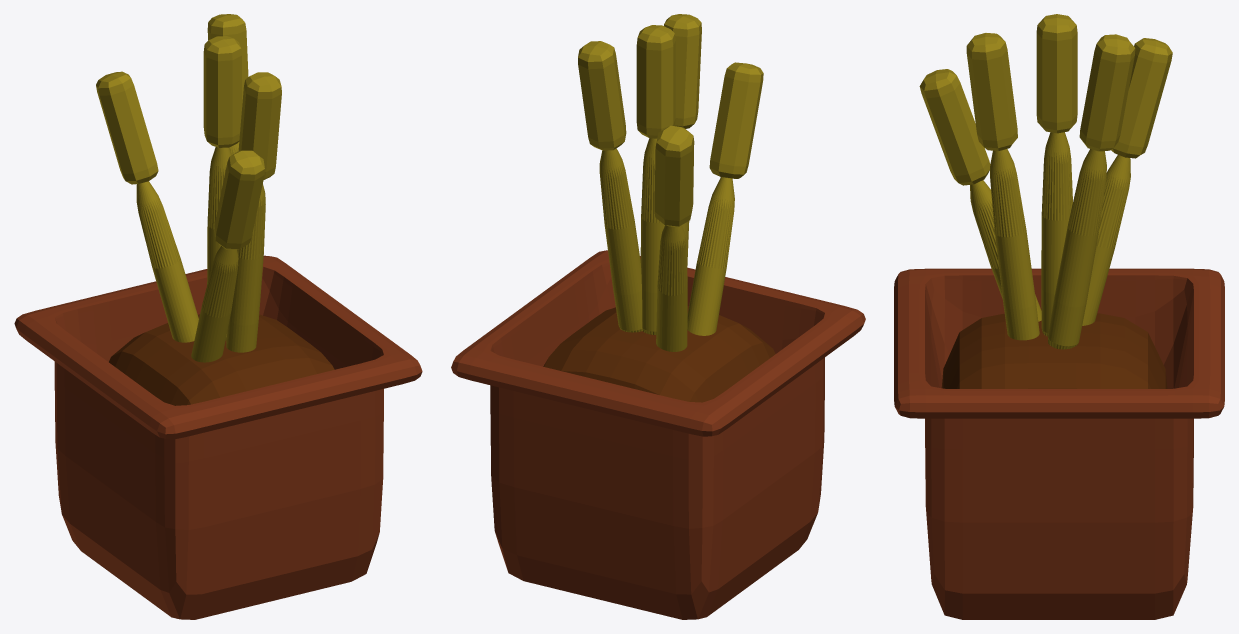
File: pot with barley 1.fbx
3 views of the same model, side by side, from view 1: azimuth 30°, elevation 25°; view 2: azimuth 150°, elevation 25°; view 3: azimuth 270°, elevation 25° (orthographic). The views are drawn at different scales.
Parts seen in each view (by area): view 1: Pot with grown plant, dirt.001, Barley.003, Barley.004, Barley.001, Barley, Barley.002; view 2: Pot with grown plant, dirt.001, Barley.002, Barley.004, Barley.003, Barley, Barley.001; view 3: Pot with grown plant, dirt.001, Barley.002, Barley.001, Barley, Barley.003, Barley.004.
Boxes of the visible parts, bbox=[...] form: Pot with grown plant: bbox=[14, 255, 422, 619]; dirt.001: bbox=[109, 314, 334, 405]; Barley.003: bbox=[96, 71, 198, 342]; Barley.004: bbox=[191, 150, 264, 362]; Barley.001: bbox=[226, 72, 281, 352]; Barley: bbox=[203, 36, 241, 340]; Barley.002: bbox=[207, 14, 248, 154]; Pot with grown plant: bbox=[451, 250, 865, 619]; dirt.001: bbox=[543, 306, 775, 402]; Barley.002: bbox=[578, 41, 642, 332]; Barley.004: bbox=[687, 62, 763, 335]; Barley.003: bbox=[654, 125, 694, 351]; Barley: bbox=[636, 25, 675, 334]; Barley.001: bbox=[664, 14, 701, 266]; Pot with grown plant: bbox=[894, 268, 1224, 619]; dirt.001: bbox=[941, 313, 1167, 388]; Barley.002: bbox=[1048, 34, 1135, 349]; Barley.001: bbox=[966, 33, 1039, 340]; Barley: bbox=[1036, 14, 1077, 336]; Barley.003: bbox=[1082, 38, 1172, 325]; Barley.004: bbox=[919, 69, 1041, 321].
Bounding box in the file's own units: 309 × 588 × 315.
